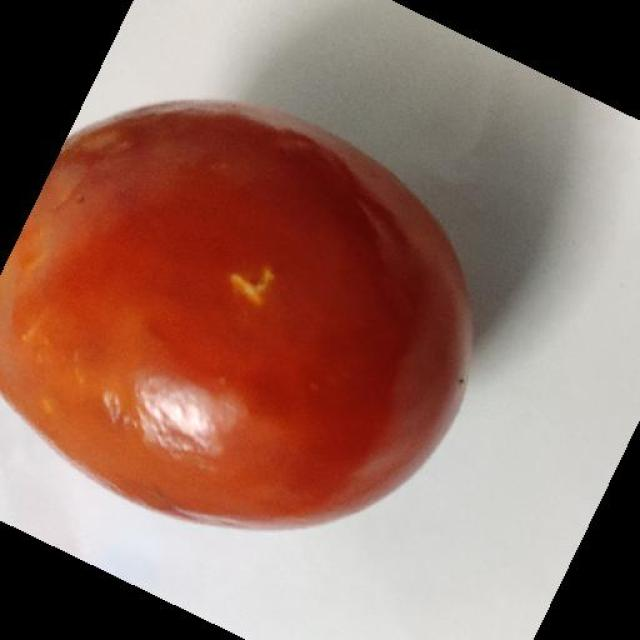Stale_tomato: (0, 82, 508, 503)
